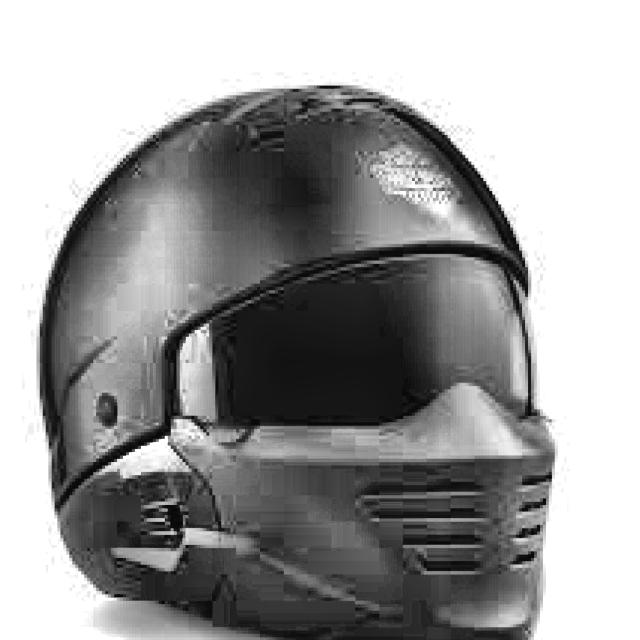Helmet: (30, 77, 586, 640)
